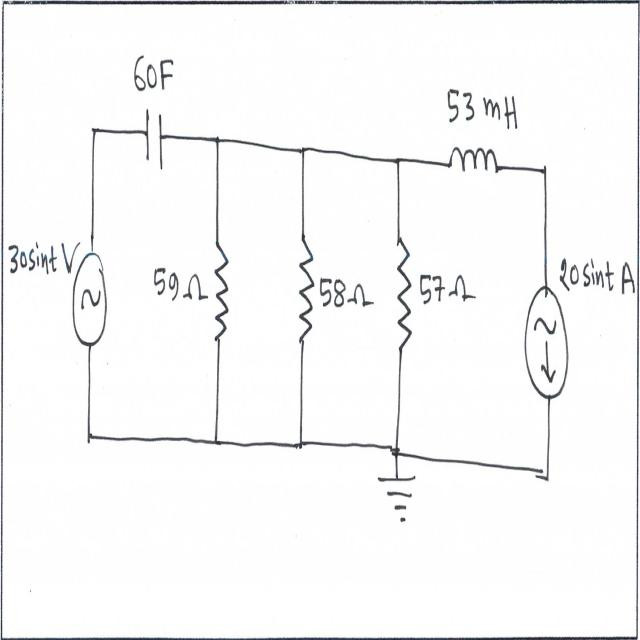ac_current: (71, 251, 110, 353)
capacitor: (143, 100, 166, 182)
current_source: (521, 284, 572, 412)
ground: (372, 467, 420, 533)
inductor: (446, 141, 500, 181)
resistor: (210, 233, 234, 353), (294, 229, 317, 353), (393, 228, 413, 358)
